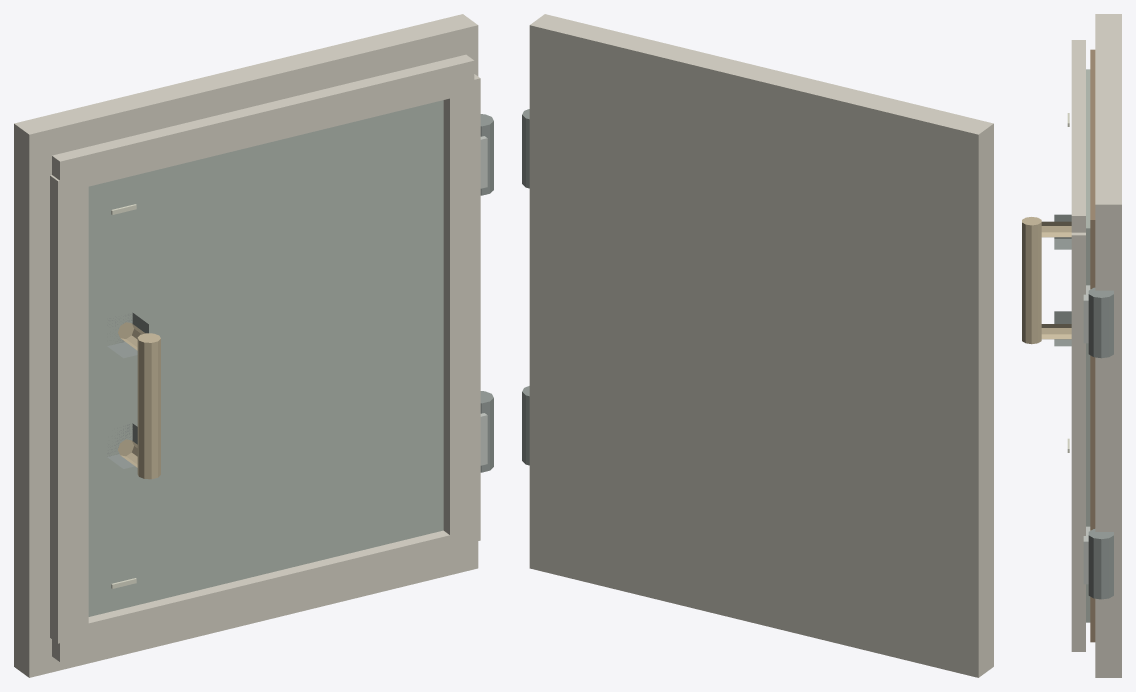
Rendered from wall_cabinet_door_right.glb.
3 views of the same model, side by side, from view 1: azimuth 30°, elevation 25°; view 2: azimuth 150°, elevation 25°; view 3: azimuth 270°, elevation 25° (orthographic). The views are drawn at different scales.
Parts seen in each view (by area): view 1: wallrightCupboardDoor; view 2: wallrightCupboardDoor; view 3: wallrightCupboardDoor.
Boxes of the visible parts, <box> form: wallrightCupboardDoor: <box>14,14,493,677</box>; wallrightCupboardDoor: <box>522,14,993,677</box>; wallrightCupboardDoor: <box>1022,14,1121,677</box>.
Bounding box in the file's own units: 0.458 × 0.51 × 0.0975.
